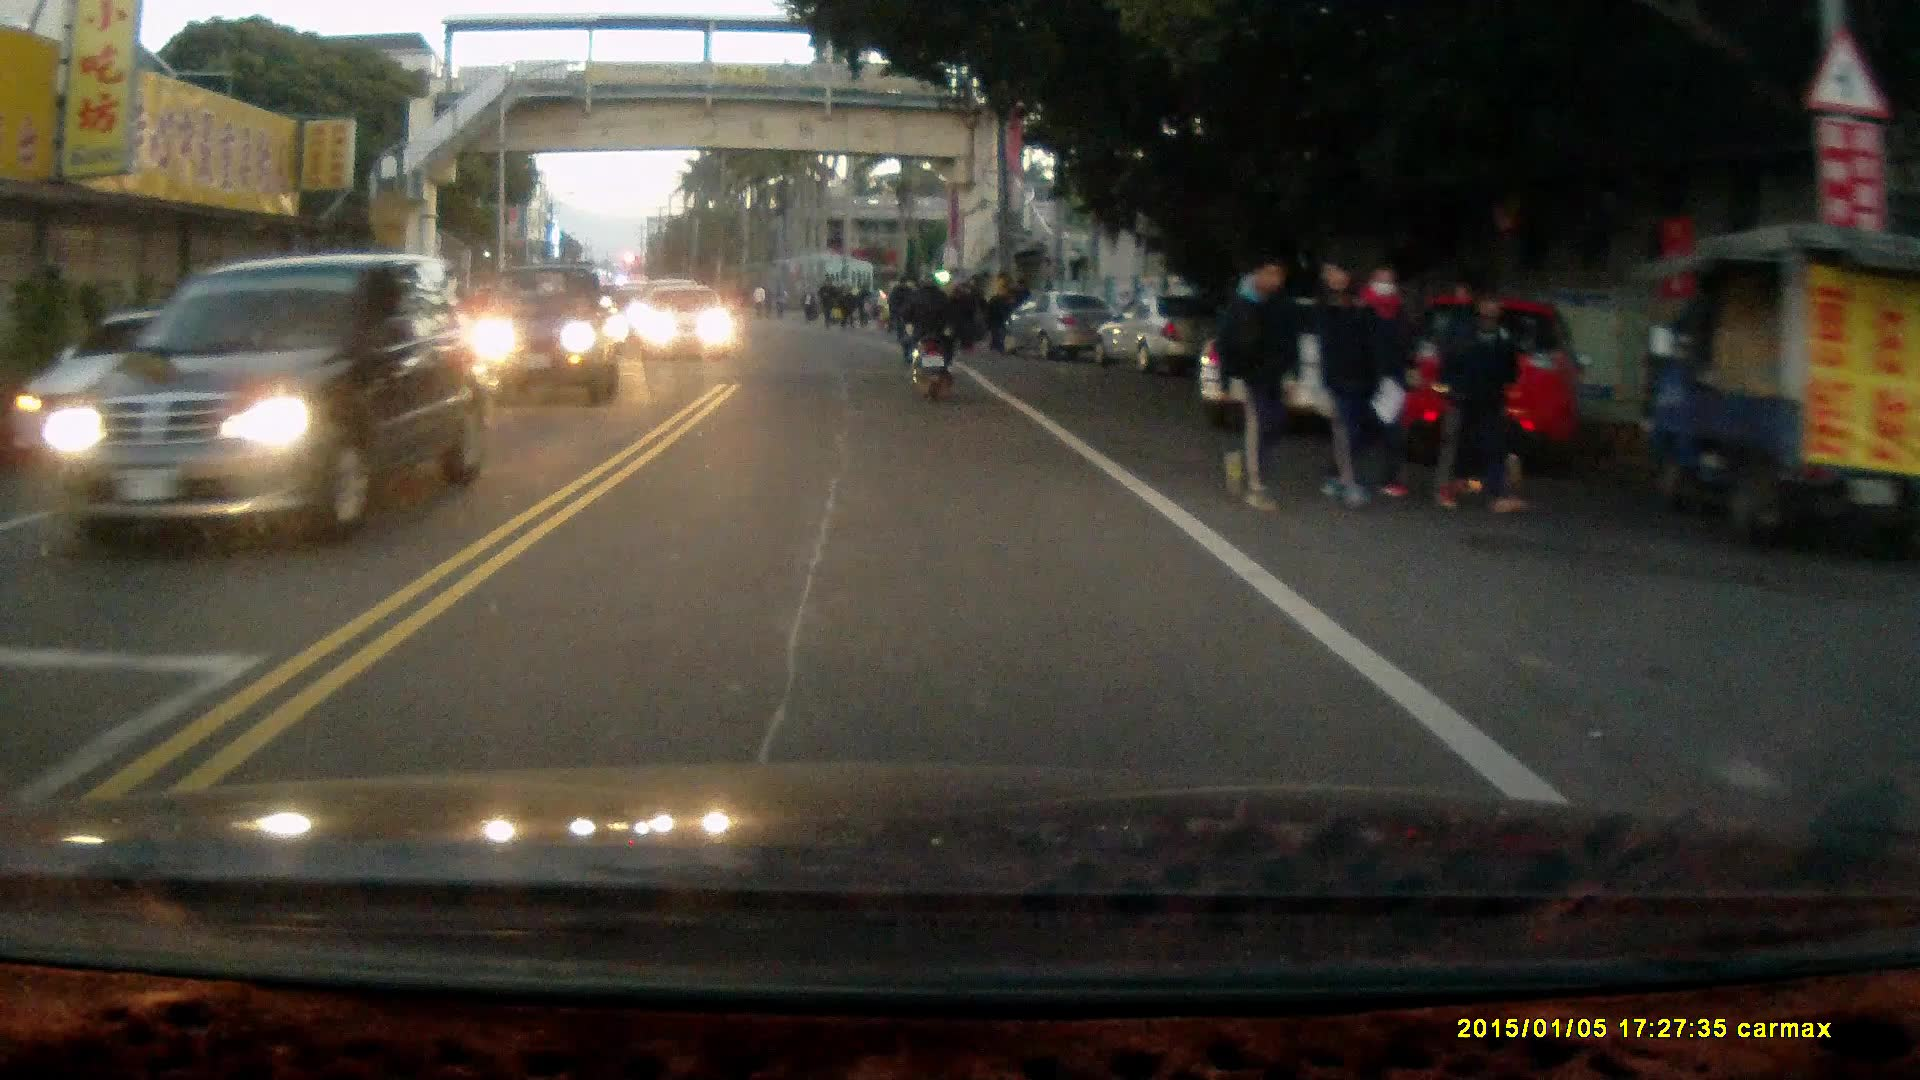pedestrian: (1210, 244, 1305, 515), (1310, 252, 1388, 517), (1441, 283, 1524, 520), (1343, 258, 1421, 498), (960, 269, 989, 351), (983, 282, 1012, 350), (950, 277, 974, 349)
rider: (891, 269, 959, 405)
vehicle: (72, 250, 478, 559), (1350, 287, 1587, 476), (1194, 285, 1414, 432), (470, 266, 624, 405), (1098, 289, 1215, 372), (1002, 291, 1122, 359), (643, 285, 738, 362)
